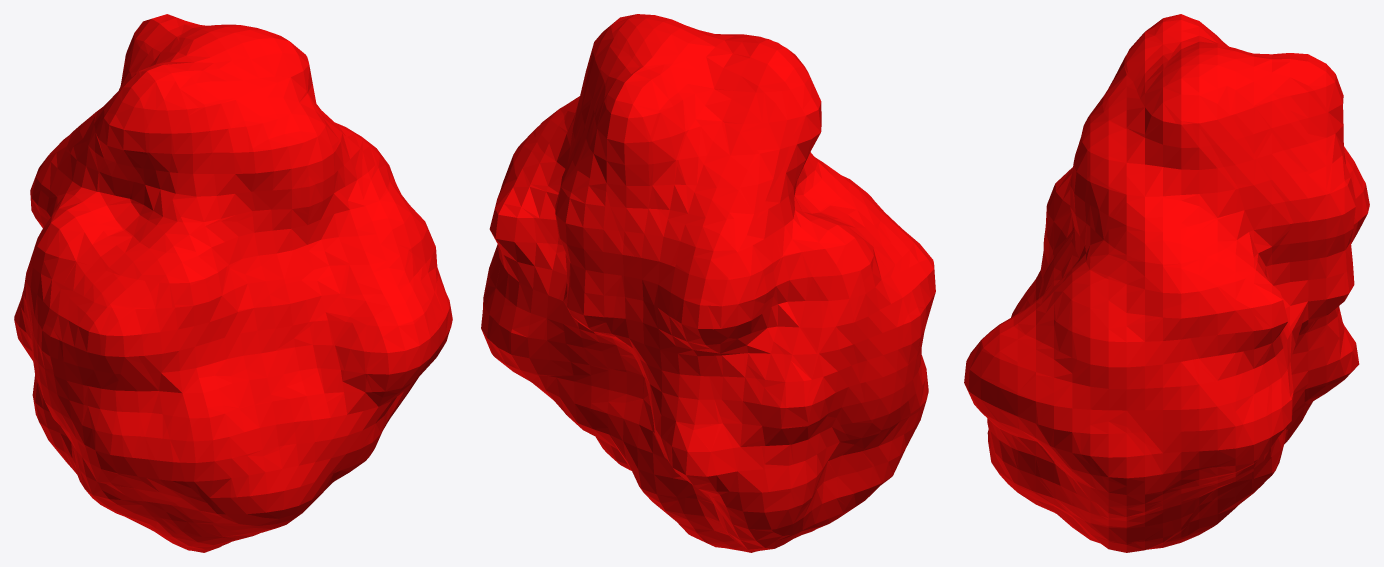
Rendered from dkgB_coarse.dae.
3 renders of one model, left to right at view 1: azimuth 30°, elevation 25°; view 2: azimuth 150°, elevation 25°; view 3: azimuth 270°, elevation 25°, orthographic. The views are drawn at different scales.
Visible parts, largest first — view 1: dkgB; view 2: dkgB; view 3: dkgB.
Boxes of the visible parts, <box> form: dkgB: <box>14,14,452,552</box>; dkgB: <box>481,14,935,552</box>; dkgB: <box>964,14,1369,552</box>.
Size of the model in its own units: 49.33 by 60.96 by 43.12.
